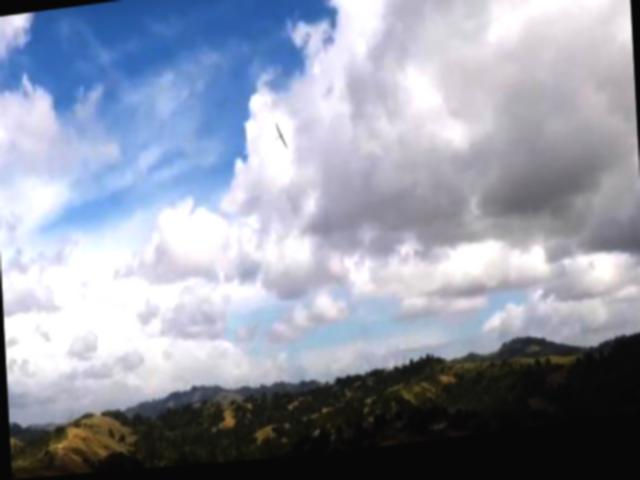iha: (273, 124, 290, 156)
